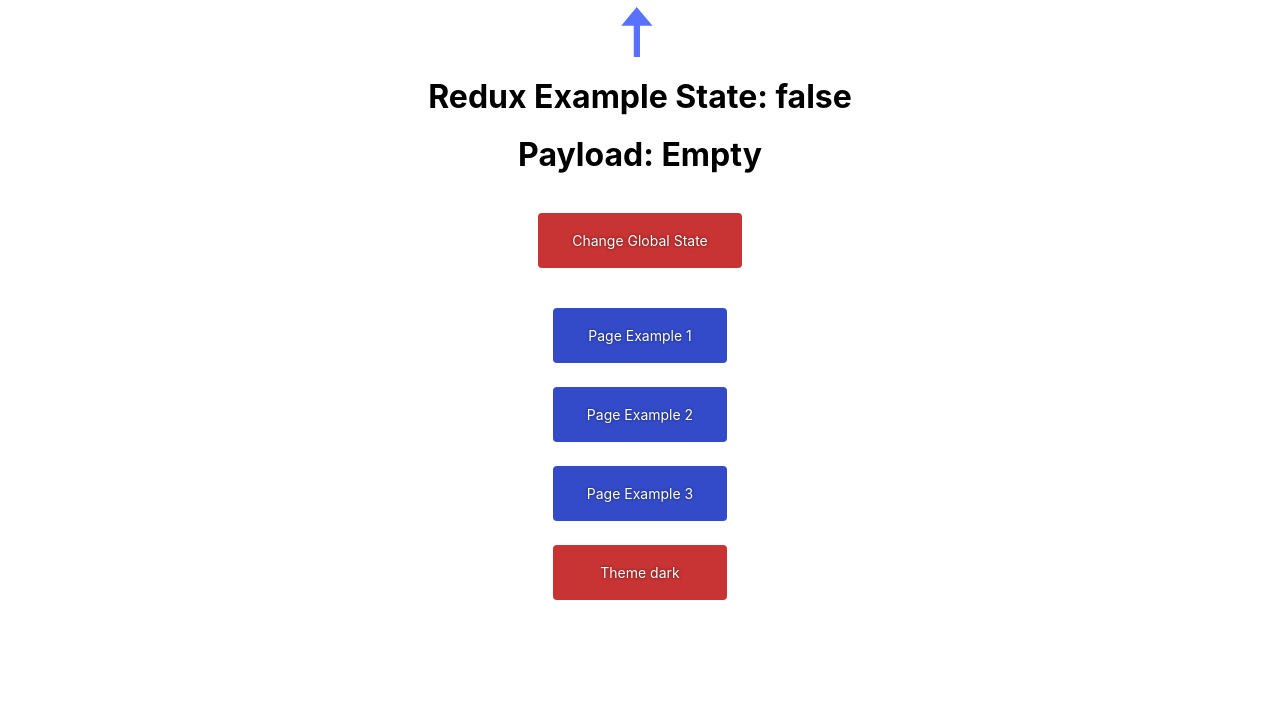
Test: [Page] Home › should toggle the button text on click
(page scrolled)
Click the button "Theme dark".
click(640, 572)  # box [553,545,727,600]
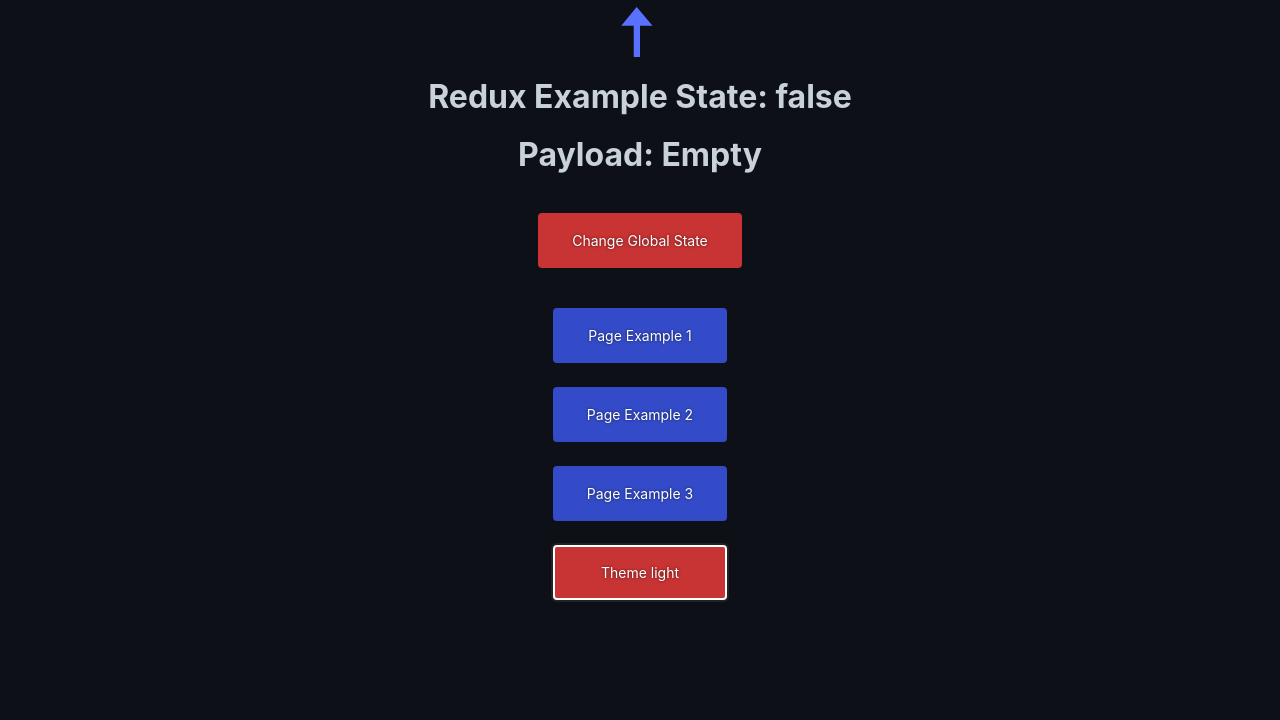
Expected: the button "Theme light" is shown, [553,545,727,600]
